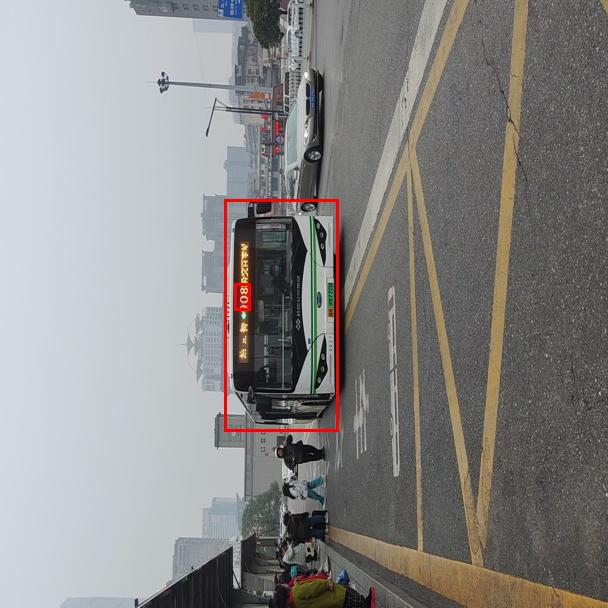bus: (224, 199, 338, 431)
screen: (234, 283, 250, 310)
